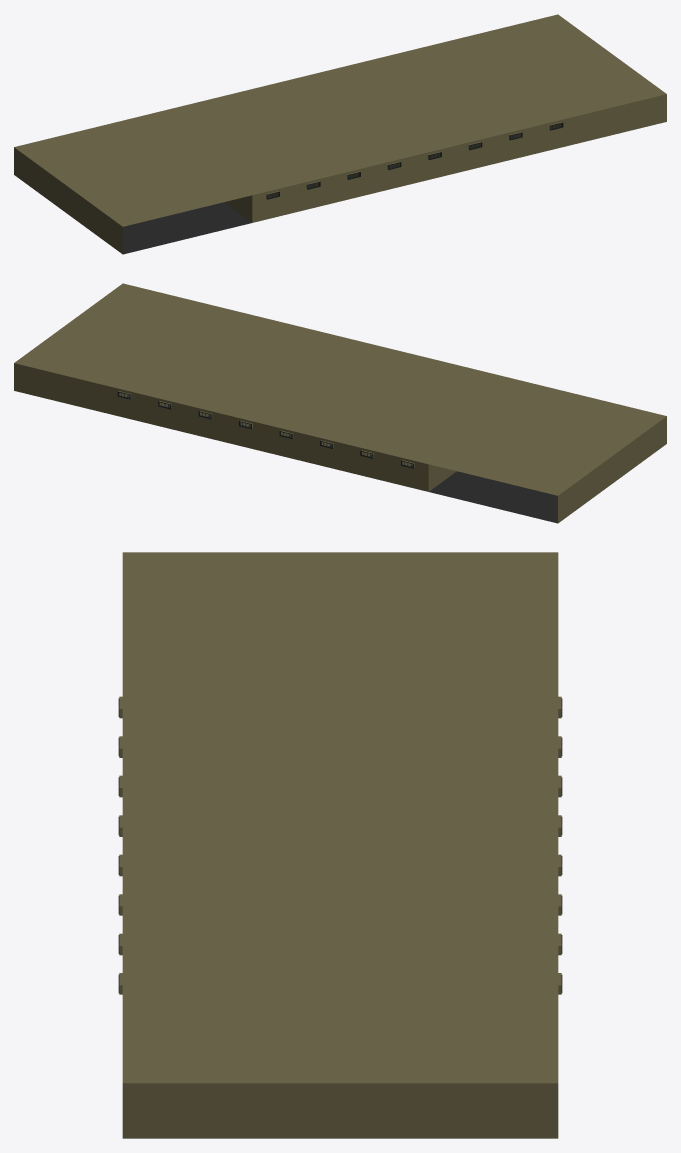
Rendered from cells.fbx.
The picture shows the model from 3 angles, top to bottom: view 1: azimuth 30°, elevation 25°; view 2: azimuth 150°, elevation 25°; view 3: azimuth 270°, elevation 25°; orthographic projection. The views are drawn at different scales.
Parts seen in each view (by area): view 1: ceiling, floor, wall128, wall123, wall063, wall071, wall079, wall075, wall055, wall051, wall067, wall059 (+1 smaller); view 2: ceiling, floor, wall128, wall124, wall099, wall091, wall083, wall087, wall107, wall095, wall111, wall103 (+1 smaller); view 3: ceiling, wall117.
Part boxes in pixels (box(x1,y1,x2,y2)): ceiling: box(14, 14, 666, 226); floor: box(123, 126, 553, 254); wall128: box(14, 147, 122, 254); wall123: box(576, 94, 666, 143); wall063: box(373, 156, 414, 193); wall071: box(454, 136, 494, 173); wall079: box(535, 116, 575, 153); wall075: box(495, 126, 535, 163); wall055: box(293, 175, 333, 212); wall051: box(252, 185, 292, 222); wall067: box(414, 146, 454, 183); wall059: box(333, 166, 373, 202); ceiling: box(14, 283, 666, 495); floor: box(127, 395, 557, 523); wall128: box(558, 416, 666, 523); wall124: box(14, 363, 104, 412); wall099: box(266, 425, 307, 462); wall091: box(186, 405, 226, 442); wall083: box(105, 385, 145, 422); wall087: box(145, 395, 185, 432); wall107: box(347, 444, 387, 481); wall095: box(226, 415, 266, 452); wall111: box(388, 454, 428, 491); wall103: box(307, 435, 347, 471); ceiling: box(122, 552, 558, 1083); wall117: box(122, 1083, 558, 1138).
Size of the model in its own units: 1345 by 65.42 by 475.
